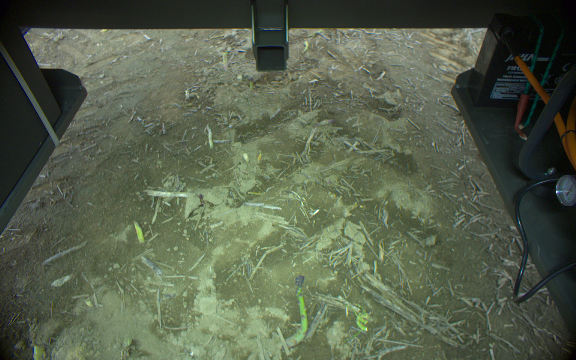aspa: (279, 274, 310, 350), (131, 218, 147, 248), (354, 310, 371, 333)
